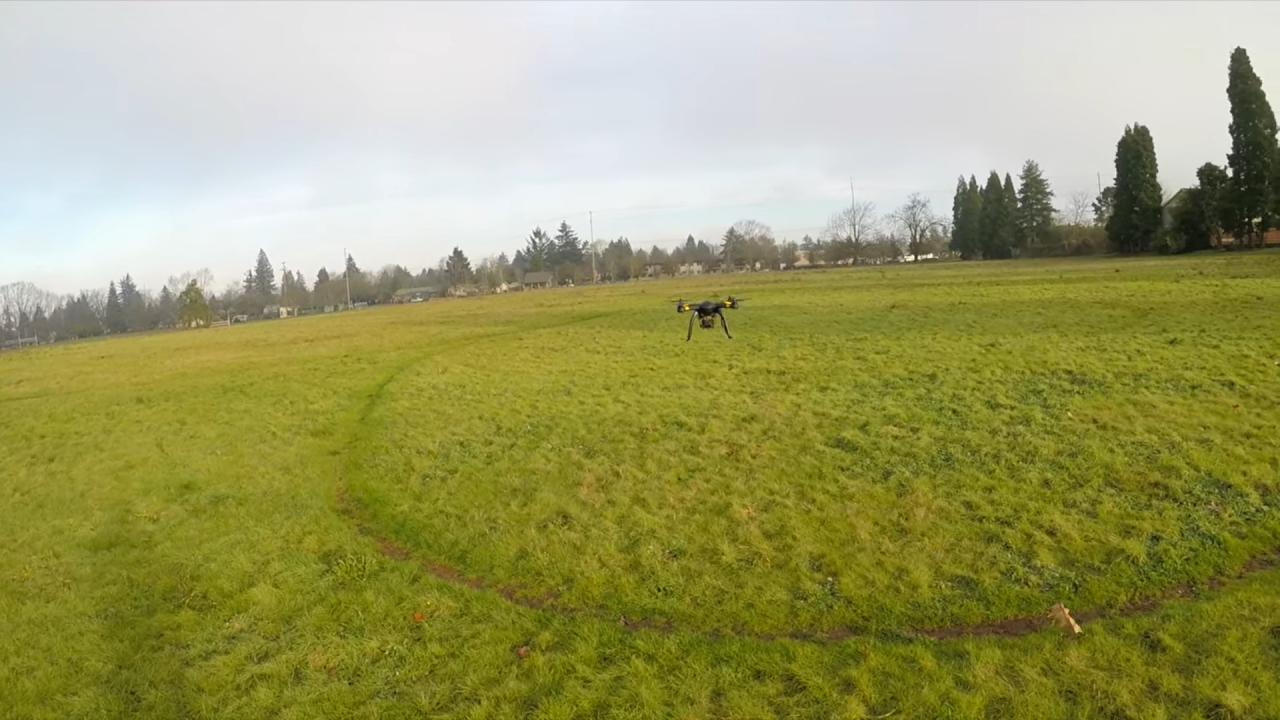Drone: (661, 287, 751, 350)
